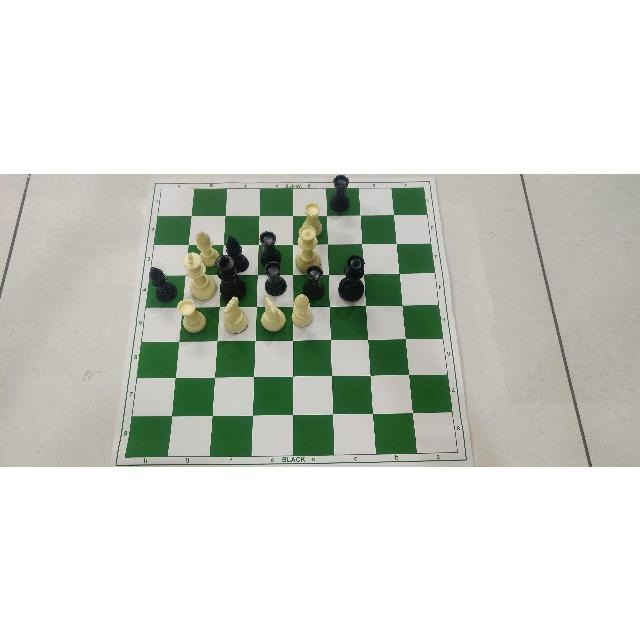black-bishop: (146, 266, 177, 303), (223, 235, 249, 270)
black-king: (210, 253, 246, 300)
black-queen: (338, 256, 363, 300)
black-rook: (262, 262, 289, 296), (327, 174, 351, 212), (260, 230, 282, 265), (304, 265, 323, 301)
white-bishop: (194, 230, 219, 265), (291, 291, 314, 326)
white-king: (182, 252, 216, 296)
white-knight: (259, 295, 285, 331), (224, 295, 248, 334)
white-queen: (296, 224, 324, 274)
white-rook: (177, 298, 205, 332), (299, 203, 323, 239)
